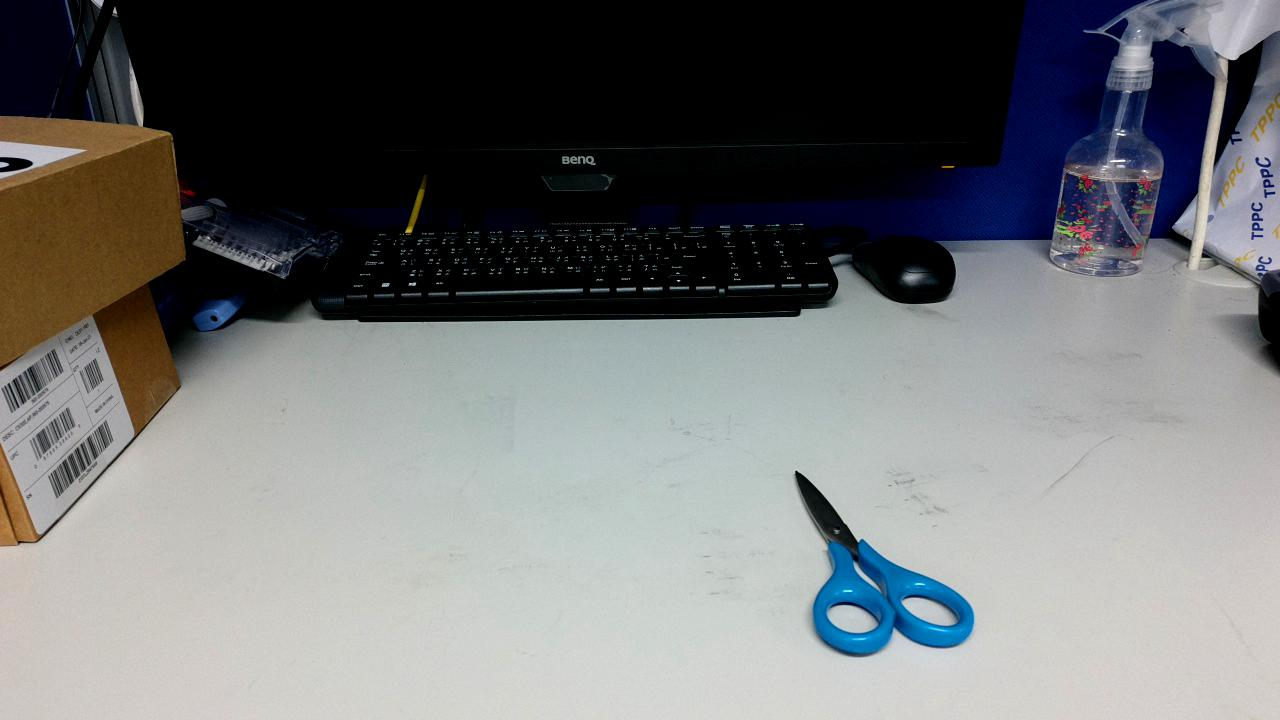long: (652, 336, 859, 506)
